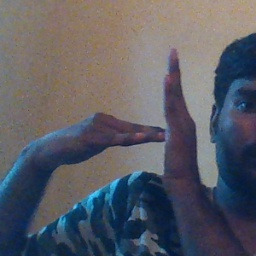Z: (96, 44, 209, 200)
